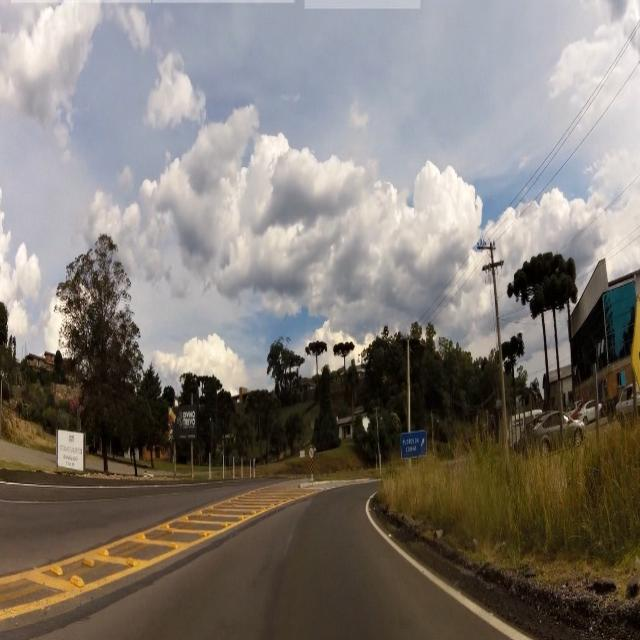LOC-6: (401, 427, 430, 459)
